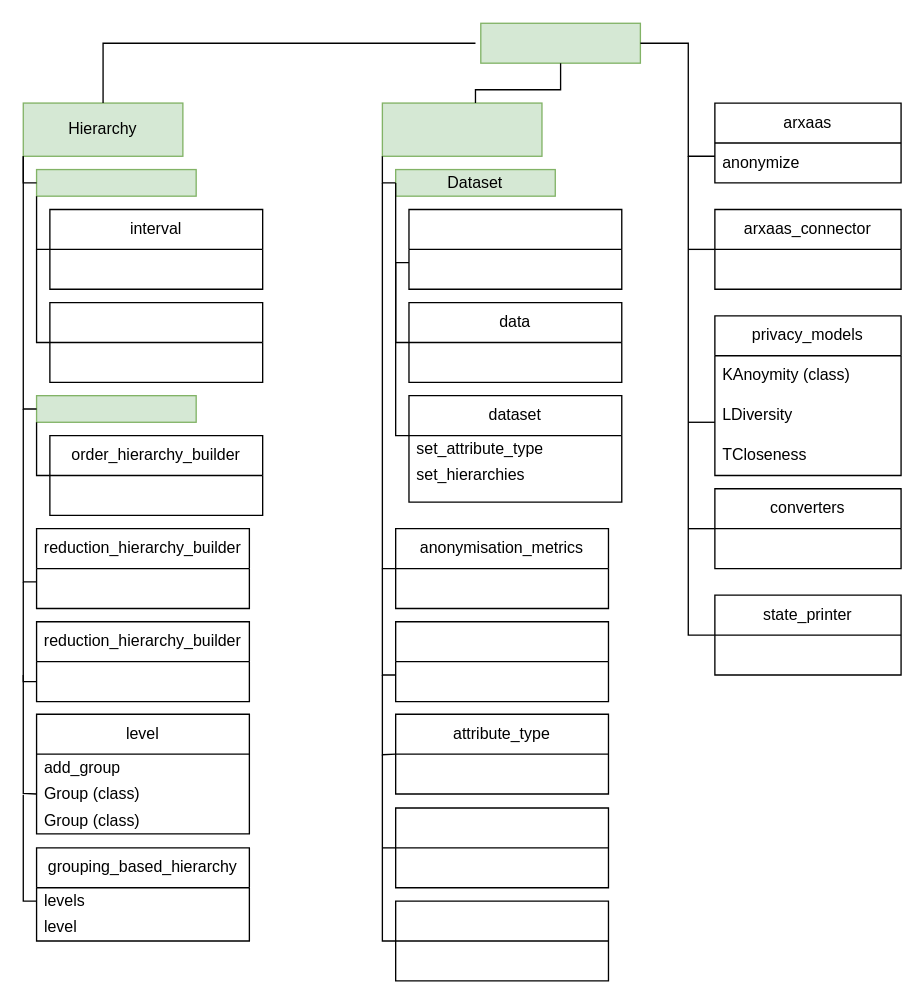
This 924x1004 diagram has some shape labels left out. The shapes that lost their labels are listed below. From the top down, each one's centre as x and y in pixels, then its label:
At (559,42): "PyArxaas".
At (461,129): "Models".
At (115,182): "Interval builder".
At (515,248): "attribute".
At (156,341): "interval_hierarchy_builder".
At (115,408): "Order builder".
At (501,661): "anonymize_result".
At (501,847): "request_builder".
At (501,940): "risk_profile".
